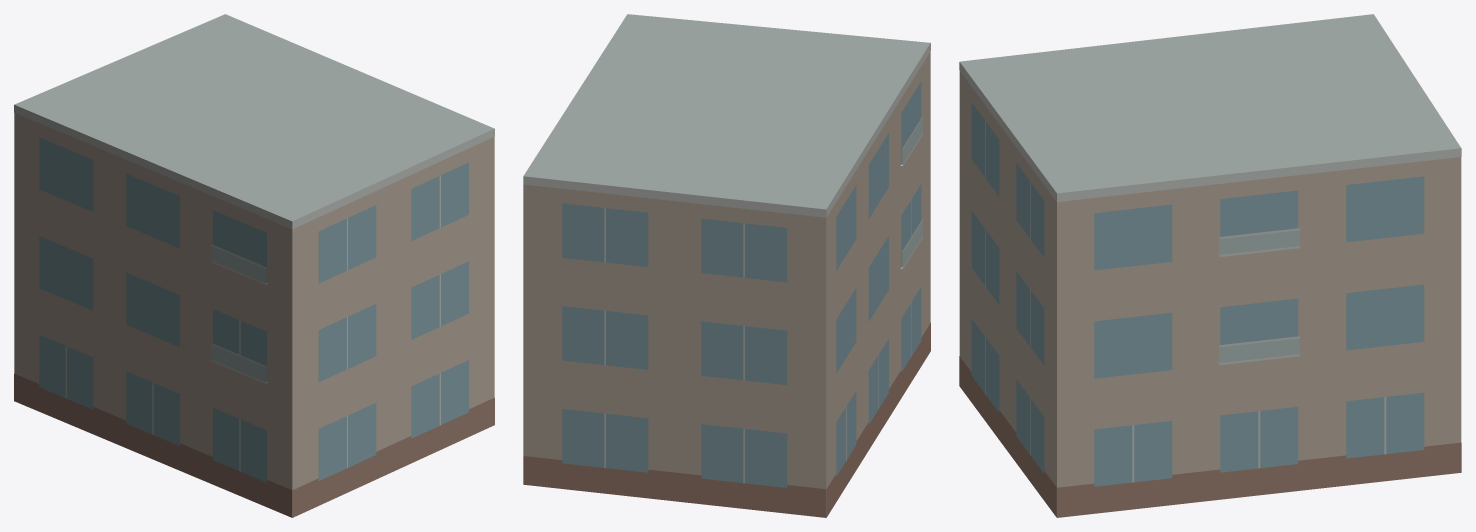
Rendered from survey-upis-32911384.glb.
3 renders of one model, left to right at view 1: azimuth 30°, elevation 25°; view 2: azimuth 150°, elevation 25°; view 3: azimuth 270°, elevation 25°, orthographic. The views are drawn at different scales.
Parts seen in each view (by area): view 1: survey-upis-32911384.tmp; view 2: survey-upis-32911384.tmp; view 3: survey-upis-32911384.tmp.
Boxes of the visible parts, x1,y1,x2,y2 form: survey-upis-32911384.tmp: (14, 14, 494, 517); survey-upis-32911384.tmp: (523, 14, 930, 517); survey-upis-32911384.tmp: (959, 14, 1461, 517).
Bounding box in the file's own units: 10.86 × 9.15 × 12.84.
